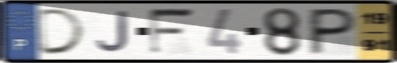4: (205, 7, 244, 57)
8: (262, 6, 303, 58)
D: (37, 7, 89, 56)
F: (147, 6, 198, 57)
J: (94, 9, 132, 54)
P: (305, 7, 360, 57)
